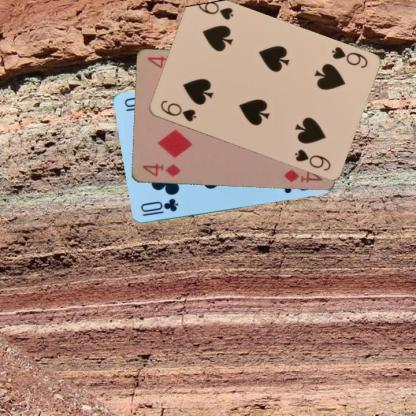10c: (138, 196, 180, 218)
4d: (139, 160, 182, 178)
6s: (328, 44, 369, 70), (157, 98, 198, 123)
